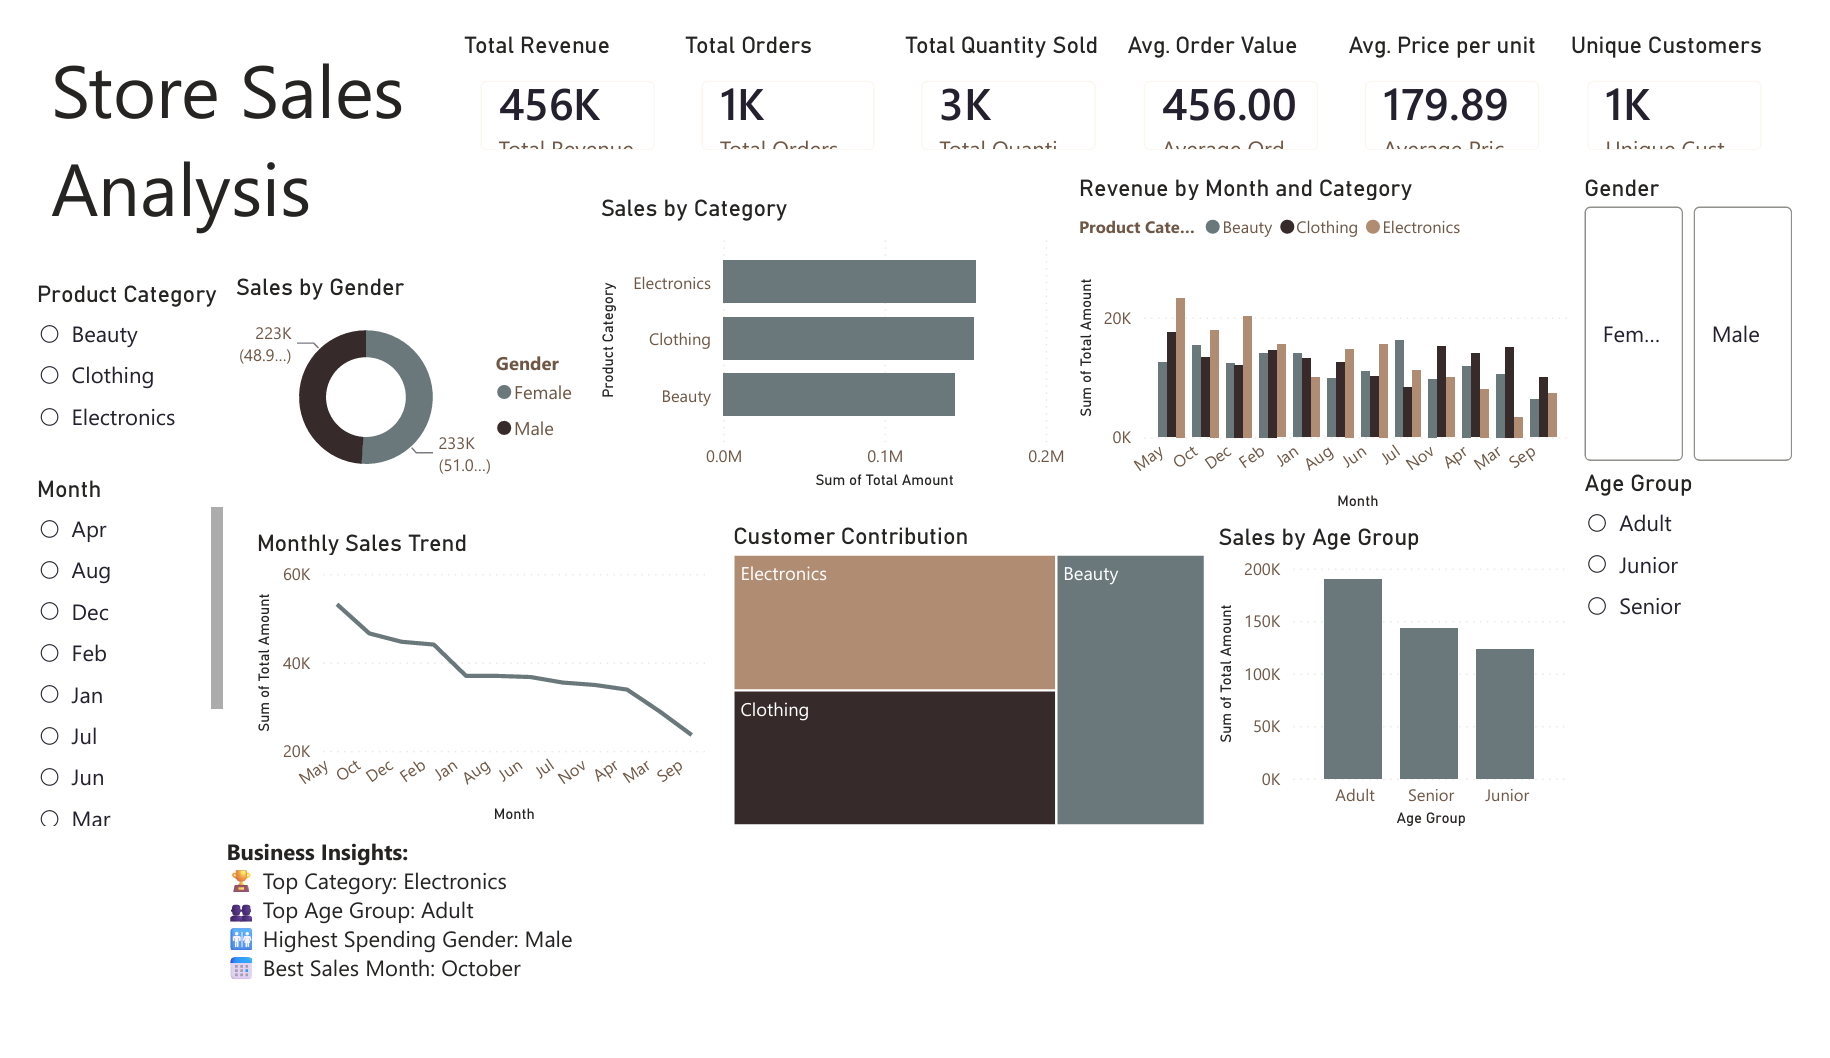

Layout of this report page (visuals, bound fields, positions):
{"tool":"powerbi","page":{"name":"Page 1","canvas":[1280,720],"ordinal":0},"visuals":[{"type":"textbox","box":[9.6,0,299.1,177],"z":0},{"type":"cardVisual","title":"Total Revenue","fields":{"Data":["Store.Total Revenue"]},"box":[308.5,0,160.5,103.2],"z":1000},{"type":"cardVisual","title":"Total Orders","fields":{"Data":["Store.Total Orders"]},"box":[469,0,159.2,103.2],"z":2000},{"type":"cardVisual","title":"Total Quantity Sold","fields":{"Data":["Store.Total Quantity Sold"]},"box":[628.2,0,160.5,103.2],"z":3000},{"type":"cardVisual","title":"Avg. Order Value","fields":{"Data":["Store.Average Order Value"]},"box":[788.7,0,160.5,103.2],"z":4000},{"type":"cardVisual","title":"Avg. Price per unit","fields":{"Data":["Store.Average Price Per Unit"]},"box":[949.1,0,160.5,103.2],"z":5000},{"type":"cardVisual","title":"Unique Customers","fields":{"Data":["Store.Unique Customers"]},"box":[1109.6,0,160.5,103.2],"z":6000},{"type":"lineChart","title":"Monthly Sales Trend","fields":{"Category":["Store.Month"],"Y":["Sum(Store.Total Amount)"]},"box":[159.2,359.5,333.4,218.9],"z":7000},{"type":"barChart","title":"Sales by Category","fields":{"Category":["Store.Product Category"],"Y":["Sum(Store.Total Amount)"]},"box":[408,118.2,345.8,217.7],"z":8000},{"type":"clusteredColumnChart","title":"Sales by Age Group","fields":{"Category":["Store.Age Group"],"Y":["Sum(Store.Total Amount)"]},"box":[854.6,355.8,263.7,225.2],"z":9000},{"type":"donutChart","title":"Sales by Gender","fields":{"Category":["Store.Gender"],"Y":["Sum(Store.Total Amount)"]},"box":[144.3,175.4,263.7,160.5],"z":10000},{"type":"treemap","title":"Customer Contribution","fields":{"Group":["Store.Product Category"],"Values":["Sum(Store.Total Amount)"]},"box":[503.8,354.5,350.8,225.2],"z":11000},{"type":"clusteredColumnChart","title":"Revenue by Month and Category","fields":{"Category":["Store.Month"],"Y":["Sum(Store.Total Amount)"],"Series":["Store.Product Category"]},"box":[753.8,103.2,365.7,247.5],"z":12000},{"type":"listSlicer","fields":{"Values":["Store.Month"]},"box":[0,320.9,144.3,260],"z":13000},{"type":"listSlicer","fields":{"Values":["Store.Product Category"]},"box":[0,180.4,144.3,140.6],"z":14000},{"type":"advancedSlicerVisual","fields":{"Values":["Store.Gender"]},"box":[1119.6,103.2,160.5,214],"z":15000},{"type":"listSlicer","fields":{"Values":["Store.Age Group"]},"box":[1119.6,317.2,160.5,125.6],"z":16000},{"type":"textbox","box":[136.8,578.4,271.2,141.8],"z":17000}]}

Visuals, with their boxes in screenshot pixels (x1, y1, x2, y2), scaled from the page's 1280x720 canvas onto the 1830x1058 screenshot:
textbox: box(14, 0, 441, 260)
"Total Revenue" cardVisual: box(441, 0, 671, 152)
"Total Orders" cardVisual: box(671, 0, 898, 152)
"Total Quantity Sold" cardVisual: box(898, 0, 1128, 152)
"Avg. Order Value" cardVisual: box(1128, 0, 1357, 152)
"Avg. Price per unit" cardVisual: box(1357, 0, 1586, 152)
"Unique Customers" cardVisual: box(1586, 0, 1816, 152)
"Monthly Sales Trend" lineChart: box(228, 528, 704, 850)
"Sales by Category" barChart: box(583, 174, 1078, 494)
"Sales by Age Group" clusteredColumnChart: box(1222, 523, 1599, 854)
"Sales by Gender" donutChart: box(206, 258, 583, 494)
"Customer Contribution" treemap: box(720, 521, 1222, 852)
"Revenue by Month and Category" clusteredColumnChart: box(1078, 152, 1601, 515)
listSlicer - Store.Month: box(0, 472, 206, 854)
listSlicer - Store.Product Category: box(0, 265, 206, 472)
advancedSlicerVisual - Store.Gender: box(1601, 152, 1829, 466)
listSlicer - Store.Age Group: box(1601, 466, 1829, 651)
textbox: box(196, 850, 583, 1057)
